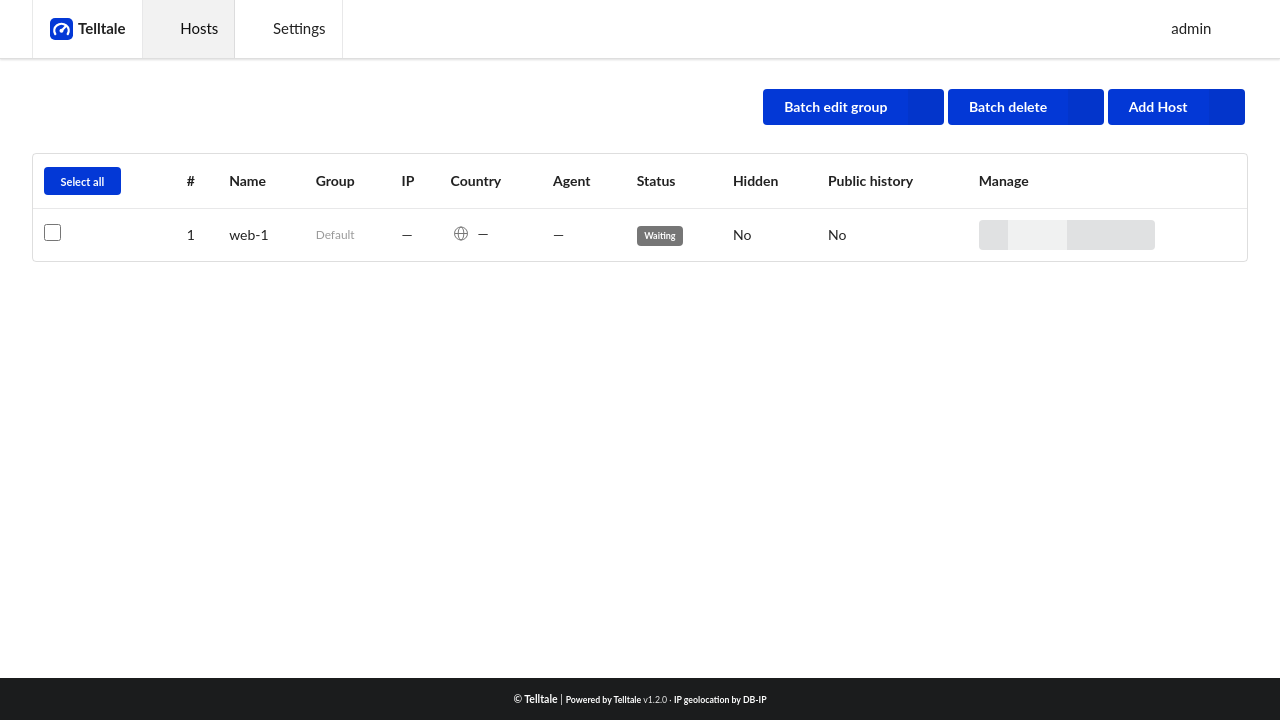
Test: admin panel › closes a dialog with Escape
Click the button named "Delete web-1" at (1140, 235), box [1126, 220, 1155, 250]
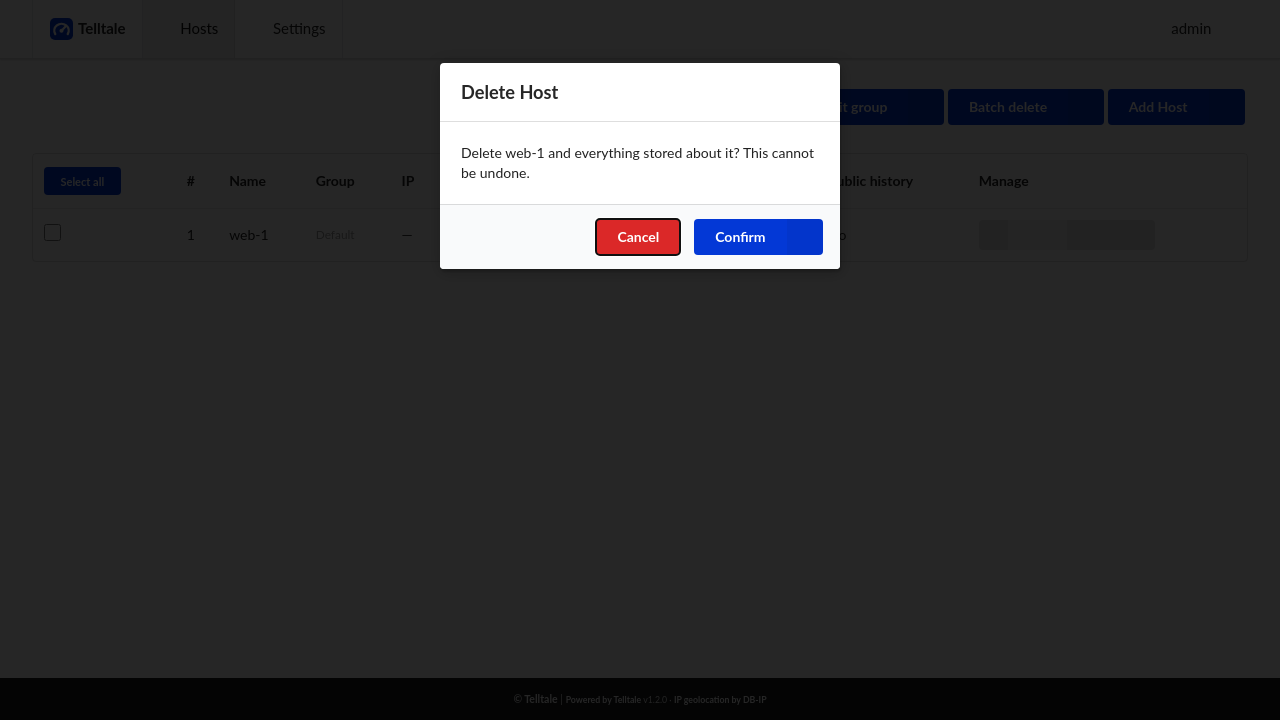
Press Escape
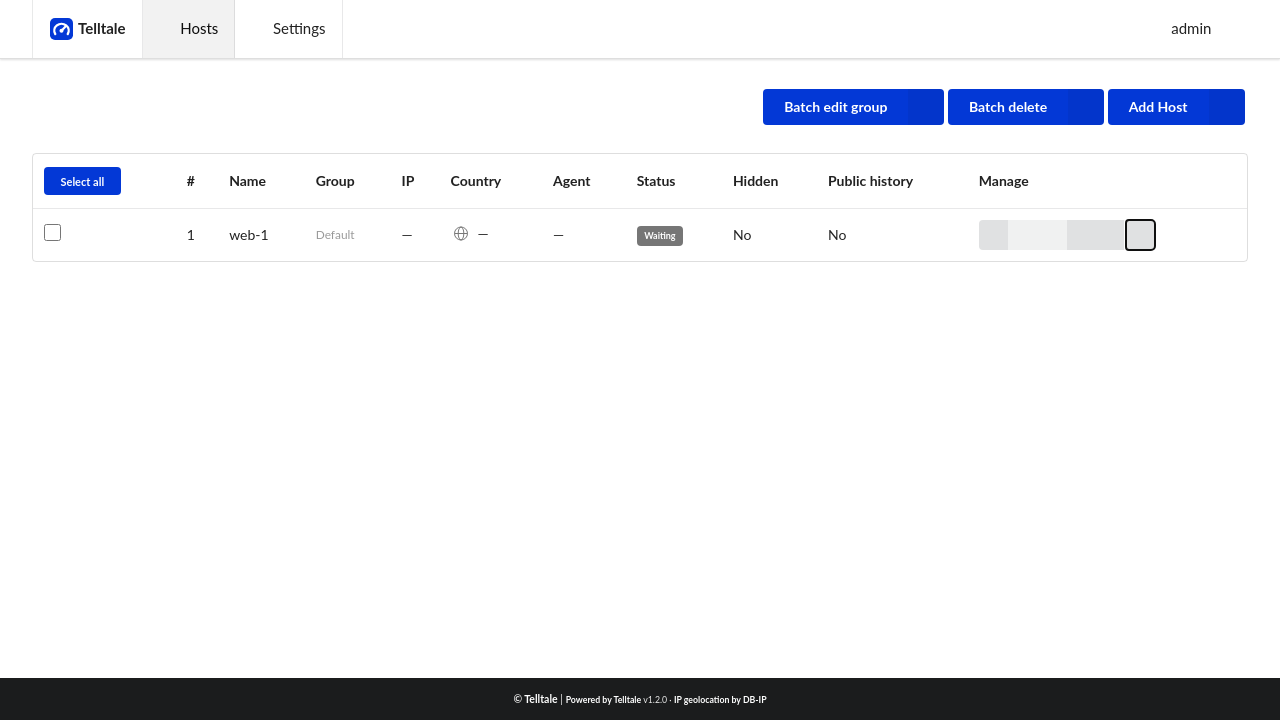
Now the dialog is gone
